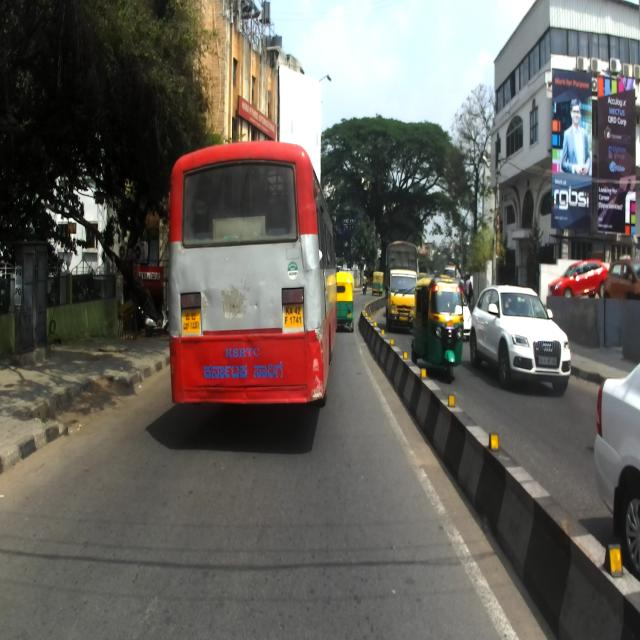auto ahead at: (413, 277, 466, 384)
bus ahead at: (165, 137, 336, 441)
car ahead at: (474, 281, 571, 385)
